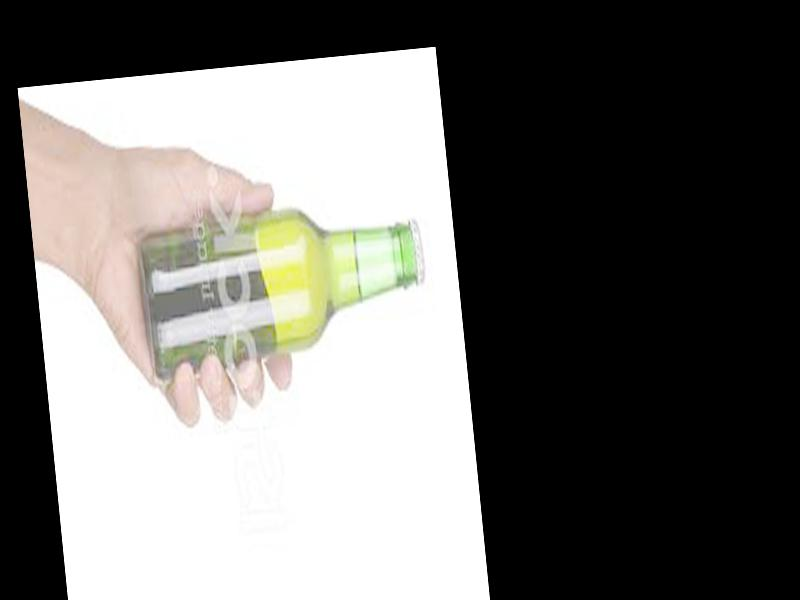Beer: (135, 192, 432, 372)
